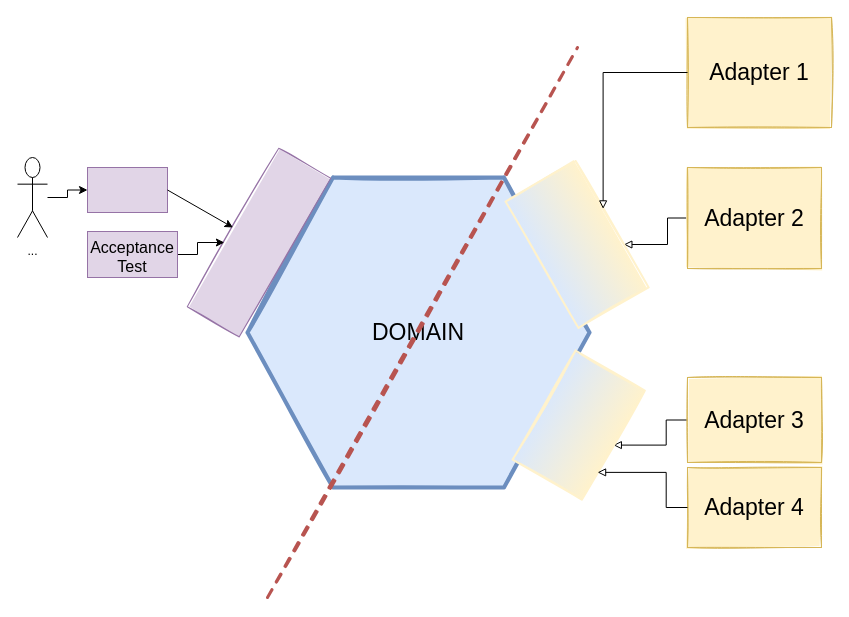
Some shapes in this 849 by 617 pixel diagram are drawn without their labels. Here are the shapes that lost their labels. From the top down, the centre of each, then its label:
point (127, 189): Web
point (258, 242): ForSomething
point (577, 244): ForFetching Something
point (578, 425): ForFetching SomethingElse
